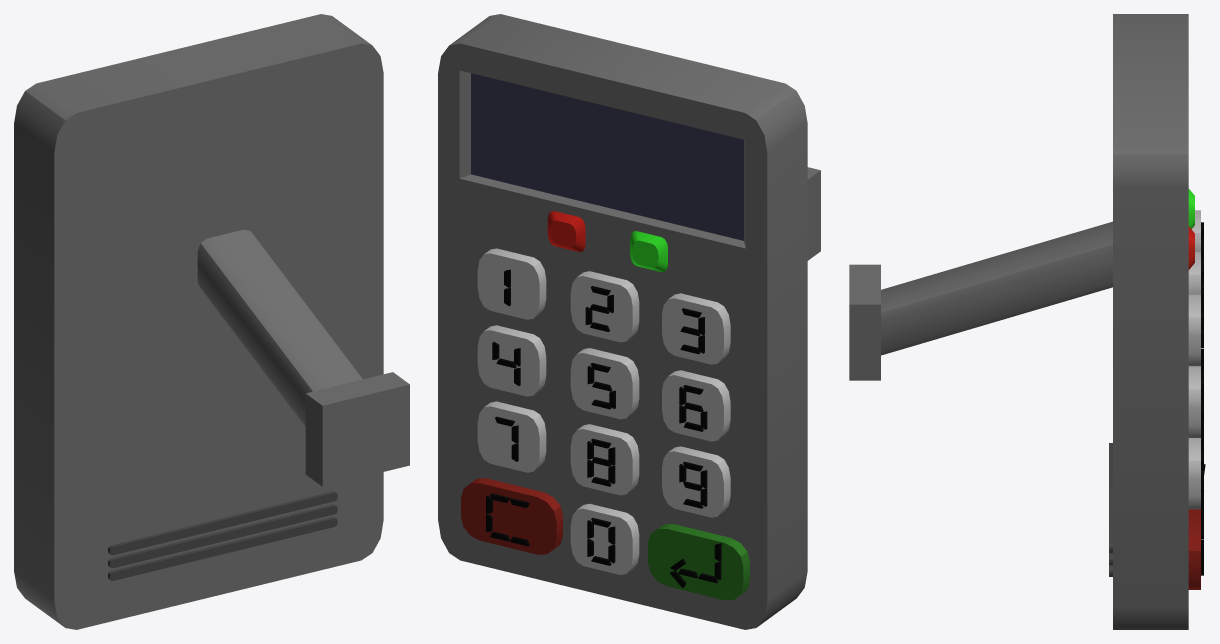
File: CodePanel.fbx
The picture shows the model from 3 angles, left to right: view 1: azimuth 30°, elevation 25°; view 2: azimuth 150°, elevation 25°; view 3: azimuth 270°, elevation 25°; orthographic projection. The views are drawn at different scales.
Visible parts, largest first — view 1: Cube; view 2: Cube; view 3: Cube.
Part boxes in pixels (box(x1,y1,x2,y2)): Cube: box(14, 14, 409, 629); Cube: box(438, 14, 820, 629); Cube: box(849, 14, 1205, 629).
Bounding box in the file's own units: 10 × 10 × 15.
